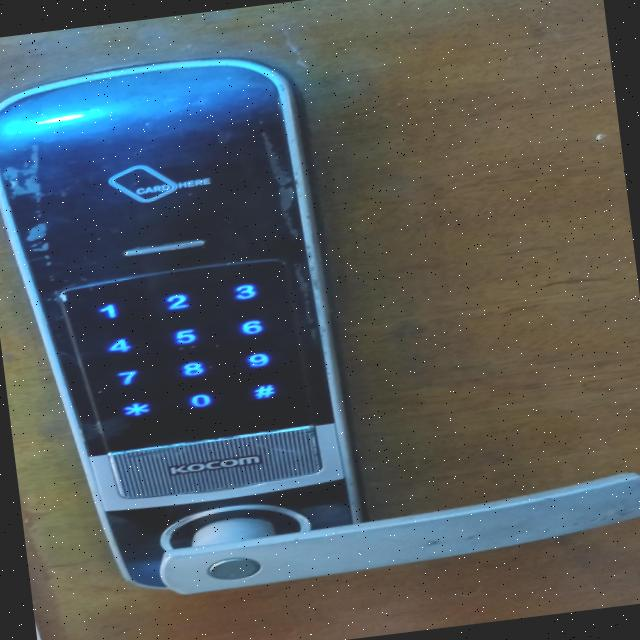Frontdoor keys: (0, 9, 640, 614)
